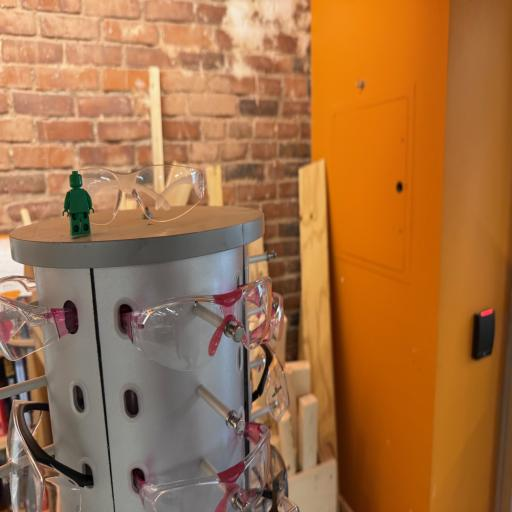Lego-Dude: (62, 171, 94, 237)
